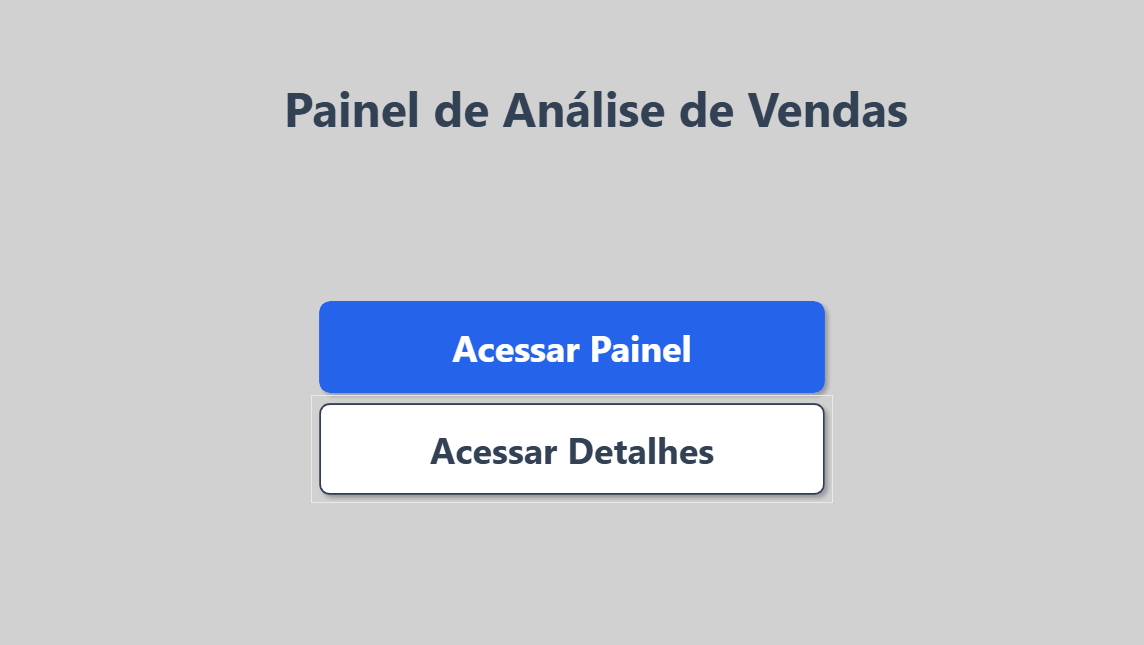

This screenshot's page, from the dashboard's own definition file:
{"tool":"powerbi","page":{"name":"Home","canvas":[1280,720],"ordinal":0},"visuals":[{"type":"textbox","box":[310,80,713.3,86.7],"z":0},{"type":"actionButton","box":[350,326.7,580,120],"z":1000},{"type":"actionButton","box":[350,440,580,120],"z":2000}]}

Visuals, with their boxes in screenshot pixels (x1, y1, x2, y2), scaled from the page's 1280x720 canvas onto the 1144x645 screenshot:
textbox: x1=277, y1=72, x2=915, y2=149
actionButton: x1=313, y1=293, x2=831, y2=400
actionButton: x1=313, y1=394, x2=831, y2=502
